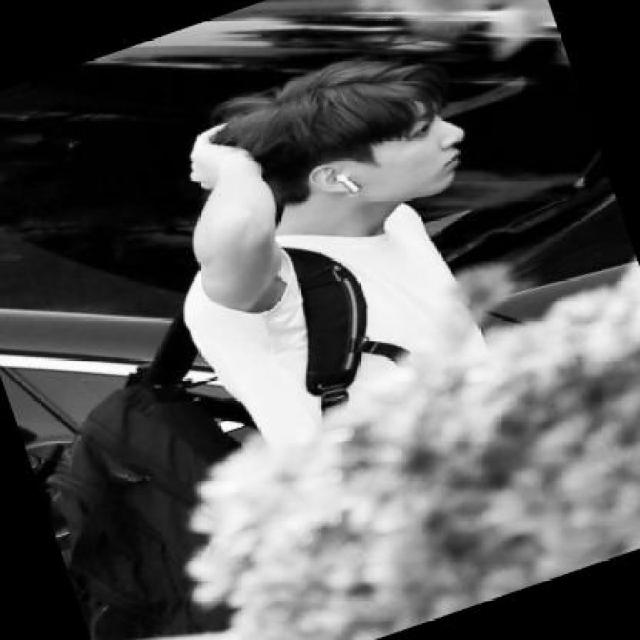earphone: (333, 156, 361, 203)
